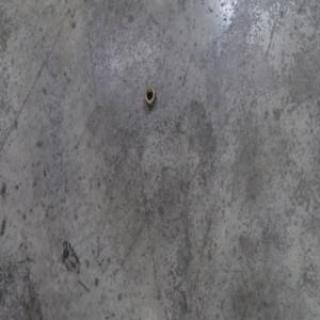Nuttrack_idkeyframe: (143, 84, 156, 109)
